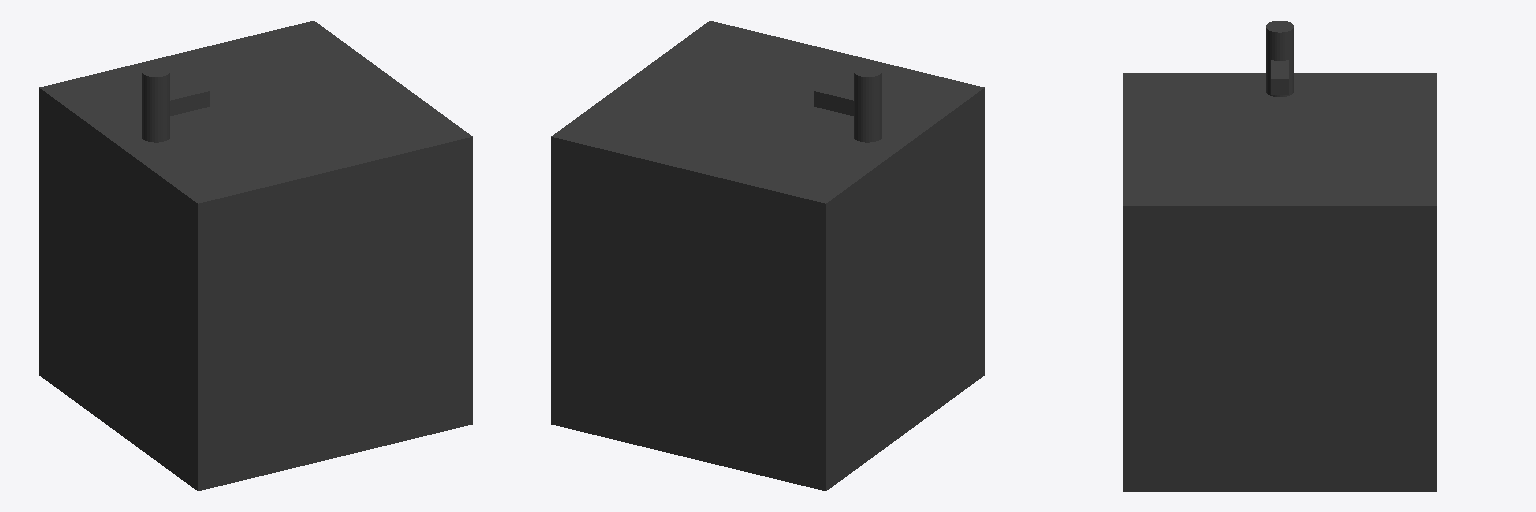
URDF robot description (boxBot):
<?xml version="1.0" ?>
<robot name="boxBot">
    <material name="white">
        <color rgba="1 1 1 1"/>
    </material>
    <material name="darkGrey">
        <color rgba="0.3 0.3 0.3 1"/>
    </material>
    <material name="lightGrey">
        <color rgba="0.7 0.7 0.7 1"/>
    </material>

    <link name="base">
        <contact>
            <lateral_friction value="1.0"/>
            <rolling_friction value="10.0"/>
            <contact_cfm value="0.0"/>
            <contact_erp value="1.0"/>
        </contact>
        <inertial>
            <origin rpy="0 0 0" xyz="0 0 0"/>
            <mass value="10000.0"/>
            <inertia ixx="1" ixy="0" ixz="0" iyy="1" iyz="0" izz="1"/>
        </inertial>
        <visual>
          <origin rpy="0 0 0" xyz="0 0 0"/>
           <geometry>
	 	    <box size="0.55 0.55 0.55"/>
            </geometry>
           <material name="darkGrey" />
        </visual>
        <collision>
          <origin rpy="0 0 0" xyz="0 0 0"/>
          <geometry>
	 	    <box size="0.55 0.55 0.55"/>
            </geometry>
        </collision>
    </link>

    <link name="torso">
        <inertial>
            <origin rpy="0 0 0" xyz="0 0 0"/>
            <mass value="1.0"/>
            <inertia ixx="1" ixy="0" ixz="0" iyy="1" iyz="0" izz="1"/>
        </inertial>
        <visual>
          <origin rpy="0 0 0" xyz="0 0 0"/>
          <geometry>
              <cylinder length="0.4" radius="0.025" />
          </geometry>
        <material name="darkGrey" />
        </visual>
    </link>

    <link name="arm">
        <inertial>
            <origin rpy="0 0 0" xyz="0 0 0"/>
            <mass value="1.0"/>
            <inertia ixx="1" ixy="0" ixz="0" iyy="1" iyz="0" izz="1"/>
        </inertial>
        <visual>
          <origin rpy="0 0 0" xyz="0 0 0"/>
          <geometry>
            <box size="0.1 0.03 0.03"/>
          </geometry>
        <material name="darkGrey" />
        </visual>
    </link>

    <link name="gripper">
        <inertial>
          <origin rpy="0.0 0.0 0.0" xyz="-0.000294 0.000291 -0.033086"/>
          <mass value="0.602660"/>
          <inertia ixx="0.000693" ixy="0.000045" ixz="-0.000000" iyy="0.001024" iyz="0.000000" izz="0.000672"/>
        </inertial>
        <visual>
          <origin rpy="0 0 0" xyz="0 0 0"/>
          <geometry>
            <mesh filename="assets/meshes/gripper/gripper_link.stl"/>
          </geometry>
          <material name="white"/>
        </visual>
        <collision>
          <origin rpy="0 0 0" xyz="0 0 0"/>
          <geometry>
            <mesh filename="assets/meshes/gripper/gripper_link_collision.stl"/>
          </geometry>
        </collision>
    </link>

    <link name="gripper_right_finger">
        <inertial>
          <origin rpy="0 0 0" xyz="-0.004470 0.010766 -0.121013"/>
          <mass value="0.109980"/>
          <inertia ixx="0.000232" ixy="-0.000005" ixz="-0.000032" iyy="0.000224" iyz="0.000036" izz="0.000029"/>
        </inertial>
        <visual>
          <origin rpy="0 0 3.1415" xyz="0 0 0"/>
          <geometry>
            <mesh filename="assets/meshes/gripper/gripper_finger_ta11_link.stl" scale="-1 -1 1"/>
          </geometry>
          <material name="lightGrey"/>
        </visual>
        <collision>
          <origin rpy="0 0 3.1415" xyz="0.005 0 -0.165"/>
          <geometry>
            <box size="0.01 0.05 0.11"/>
          </geometry>
        </collision>
    </link>

    <link name="gripper_left_finger">
        <inertial>
          <origin rpy="0 0 0" xyz="-0.004470 0.010766 -0.121013"/>
          <mass value="0.109980"/>
          <inertia ixx="0.000232" ixy="-0.000005" ixz="-0.000032" iyy="0.000224" iyz="0.000036" izz="0.000029"/>
        </inertial>
        <visual>
          <origin rpy="0 0 3.1415" xyz="0 0 0"/>
          <geometry>
            <mesh filename="assets/meshes/gripper/gripper_finger_ta11_link.stl"/>
          </geometry>
          <material name="lightGrey"/>
        </visual>
        <collision>
          <origin rpy="0 0 3.1415" xyz="-0.005 0 -0.165"/>
          <geometry>
            <box size="0.01 0.05 0.11"/>
          </geometry>
        </collision>
    </link>

    <joint name="base_to_torso" type="fixed">
        <parent link="base"/>
        <child link="torso"/>
        <origin xyz="-0.2 0 0.2"/>
    </joint>

    <joint name="torso_to_arm" type="prismatic">
        <parent link="torso"/>
        <child link="arm"/>
        <origin xyz="0.05 0 0.13"/>
        <limit effort="1000.0" lower="0" upper="0.05" velocity="0.5"/>
        <axis xyz="0 0 1"/>
    </joint>

    <joint name="arm_to_gripper" type="fixed">
        <parent link="arm"/>
        <child link="gripper"/>
        <origin rpy="1.5707 0 -1.5707" xyz="0 0 0"/>
    </joint>

    <joint name="gripper_right_finger_joint" type="prismatic">
        <origin rpy="0 0 0" xyz="0. 0 0"/>
        <parent link="gripper"/>
        <child link="gripper_right_finger"/>
        <axis xyz="1 0 0"/>
        <limit effort="16" lower="0.0" upper="0.045" velocity="0.05"/>
        <calibration rising="0.0"/>
        <dynamics damping="80"/>
        <safety_controller k_position="20" k_velocity="20" soft_lower_limit="0.001" soft_upper_limit="0.044"/>
    </joint>

    <joint name="gripper_left_finger_joint" type="prismatic">
        <origin rpy="0 0 0" xyz="0. 0 0"/>
        <parent link="gripper"/>
        <child link="gripper_left_finger"/>
        <axis xyz="-1 0 0"/>
        <limit effort="16" lower="0" upper="0.045" velocity="0.05"/>
        <calibration rising="0.0"/>
        <dynamics damping="80"/>
        <safety_controller k_position="20" k_velocity="20" soft_lower_limit="0.001" soft_upper_limit="0.044"/>
    </joint>
</robot>

--- Render facts (derived) ---
3 views of the same robot in one strip: view 1: azimuth 30°, elevation 25°; view 2: azimuth 150°, elevation 25°; view 3: azimuth 270°, elevation 25° (orthographic).
Model boxBot with 6 links and 5 joints (3 prismatic, 2 fixed), rooted at base, posed all joints at 0.
Visible links, largest first — view 1: base, torso, arm; view 2: base, torso, arm; view 3: base, torso, arm.
Link boxes in pixels (x1,y1,x2,y2): base: (39, 21, 472, 490); torso: (142, 65, 169, 142); arm: (170, 85, 209, 115); base: (551, 21, 984, 490); torso: (854, 65, 881, 142); arm: (814, 85, 853, 115); base: (1123, 73, 1436, 491); torso: (1266, 21, 1293, 96); arm: (1271, 60, 1288, 94).
Bounding box of the posed robot: 0.55 × 0.55 × 0.675 m (x, y, z).
0 mesh visuals loaded from 2 distinct referenced files (none loaded); not drawn: 3 (reference not matched to a file when rendering).
